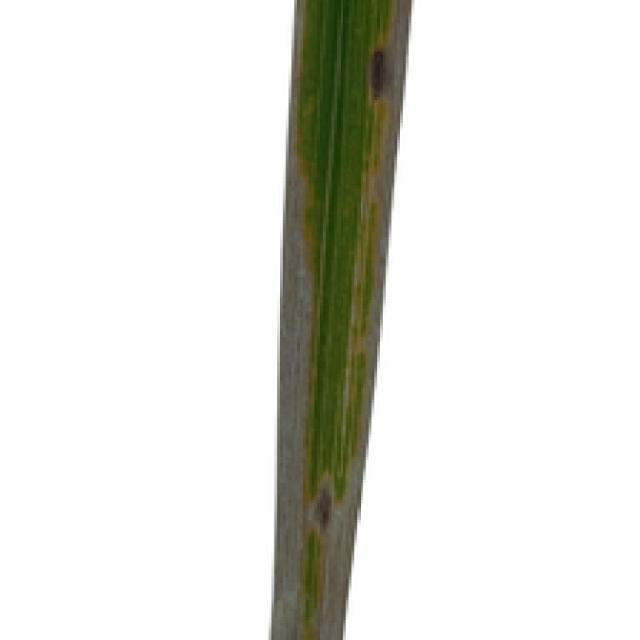Rice___Bacterial_Leaf_Blight: (269, 0, 415, 637)
